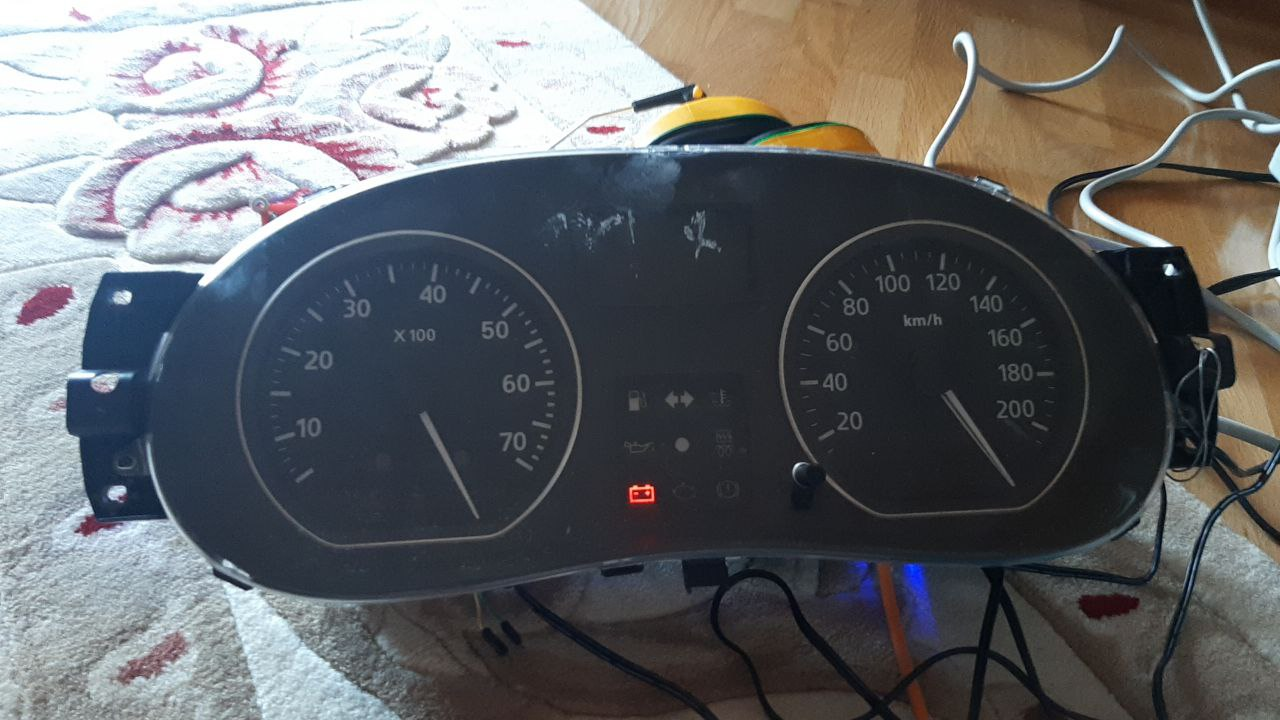accumulator: (625, 483, 656, 506)
